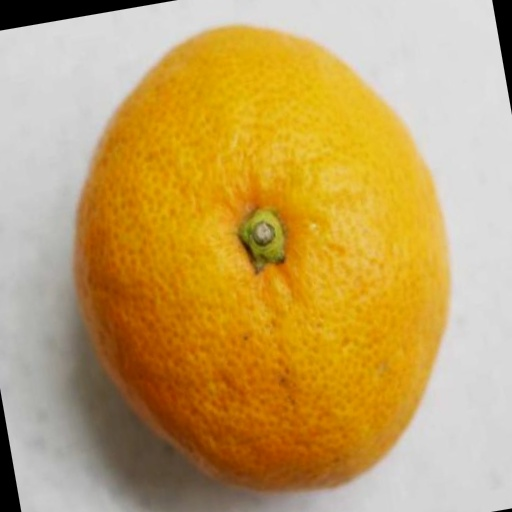fruit: (75, 27, 449, 490)
